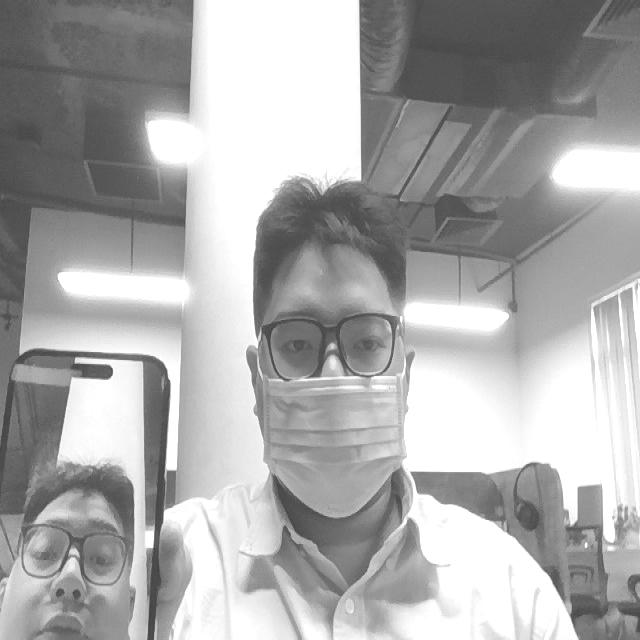fake: (0, 332, 173, 640), (0, 441, 163, 640), (258, 370, 409, 521)
real: (246, 178, 419, 523), (267, 313, 408, 372)
